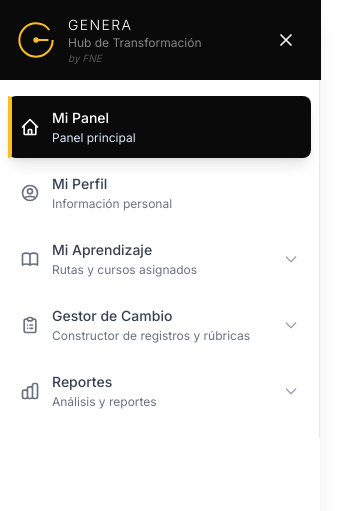
Assigned assessments in the actual Sidebar › clears the old account state and ignores its late query after a session change
This screenshot has width=338, height=511.
expect the link "Mis Registros Registros que tengo asignados" is not shown: met
Click the button "Gestor de Cambio Constructor de registros y rúbricas" at (160, 325), box x1=8 y1=294 x2=311 y2=356
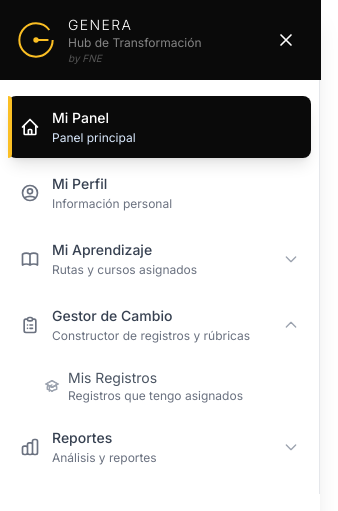
expect the link "Mis Registros Registros que tengo asignados" is shown: met, box x1=44 y1=369 x2=243 y2=403
